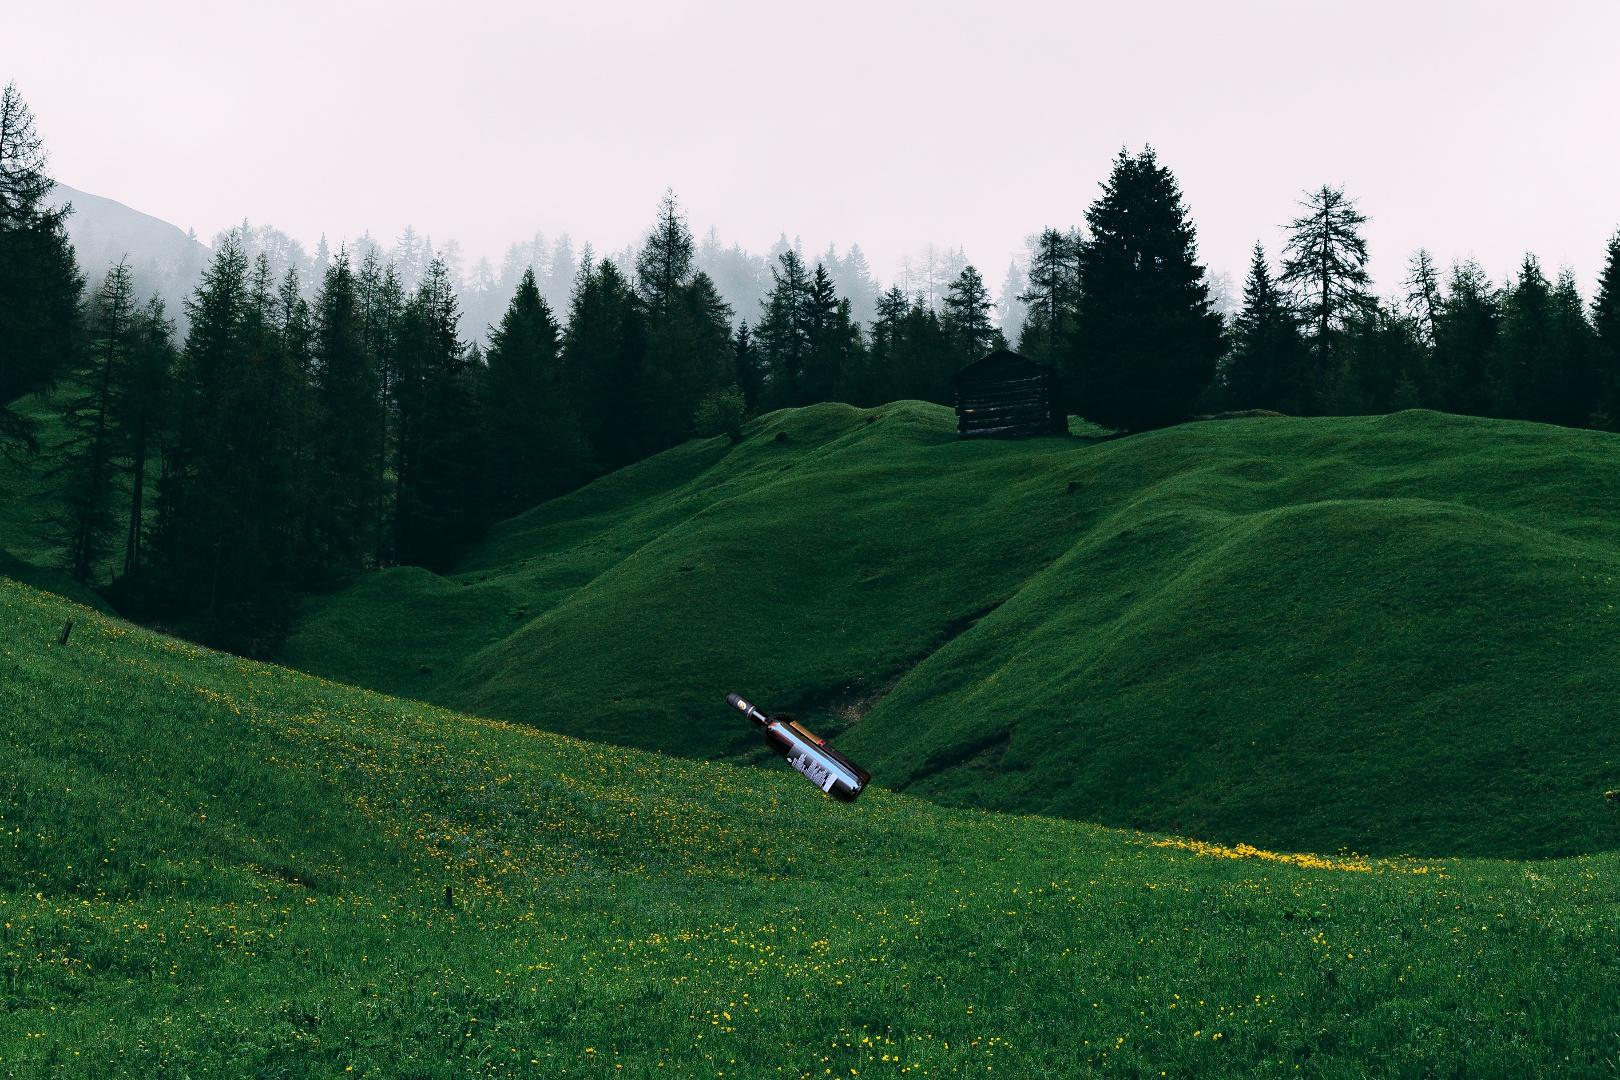glass: (721, 685, 876, 810)
